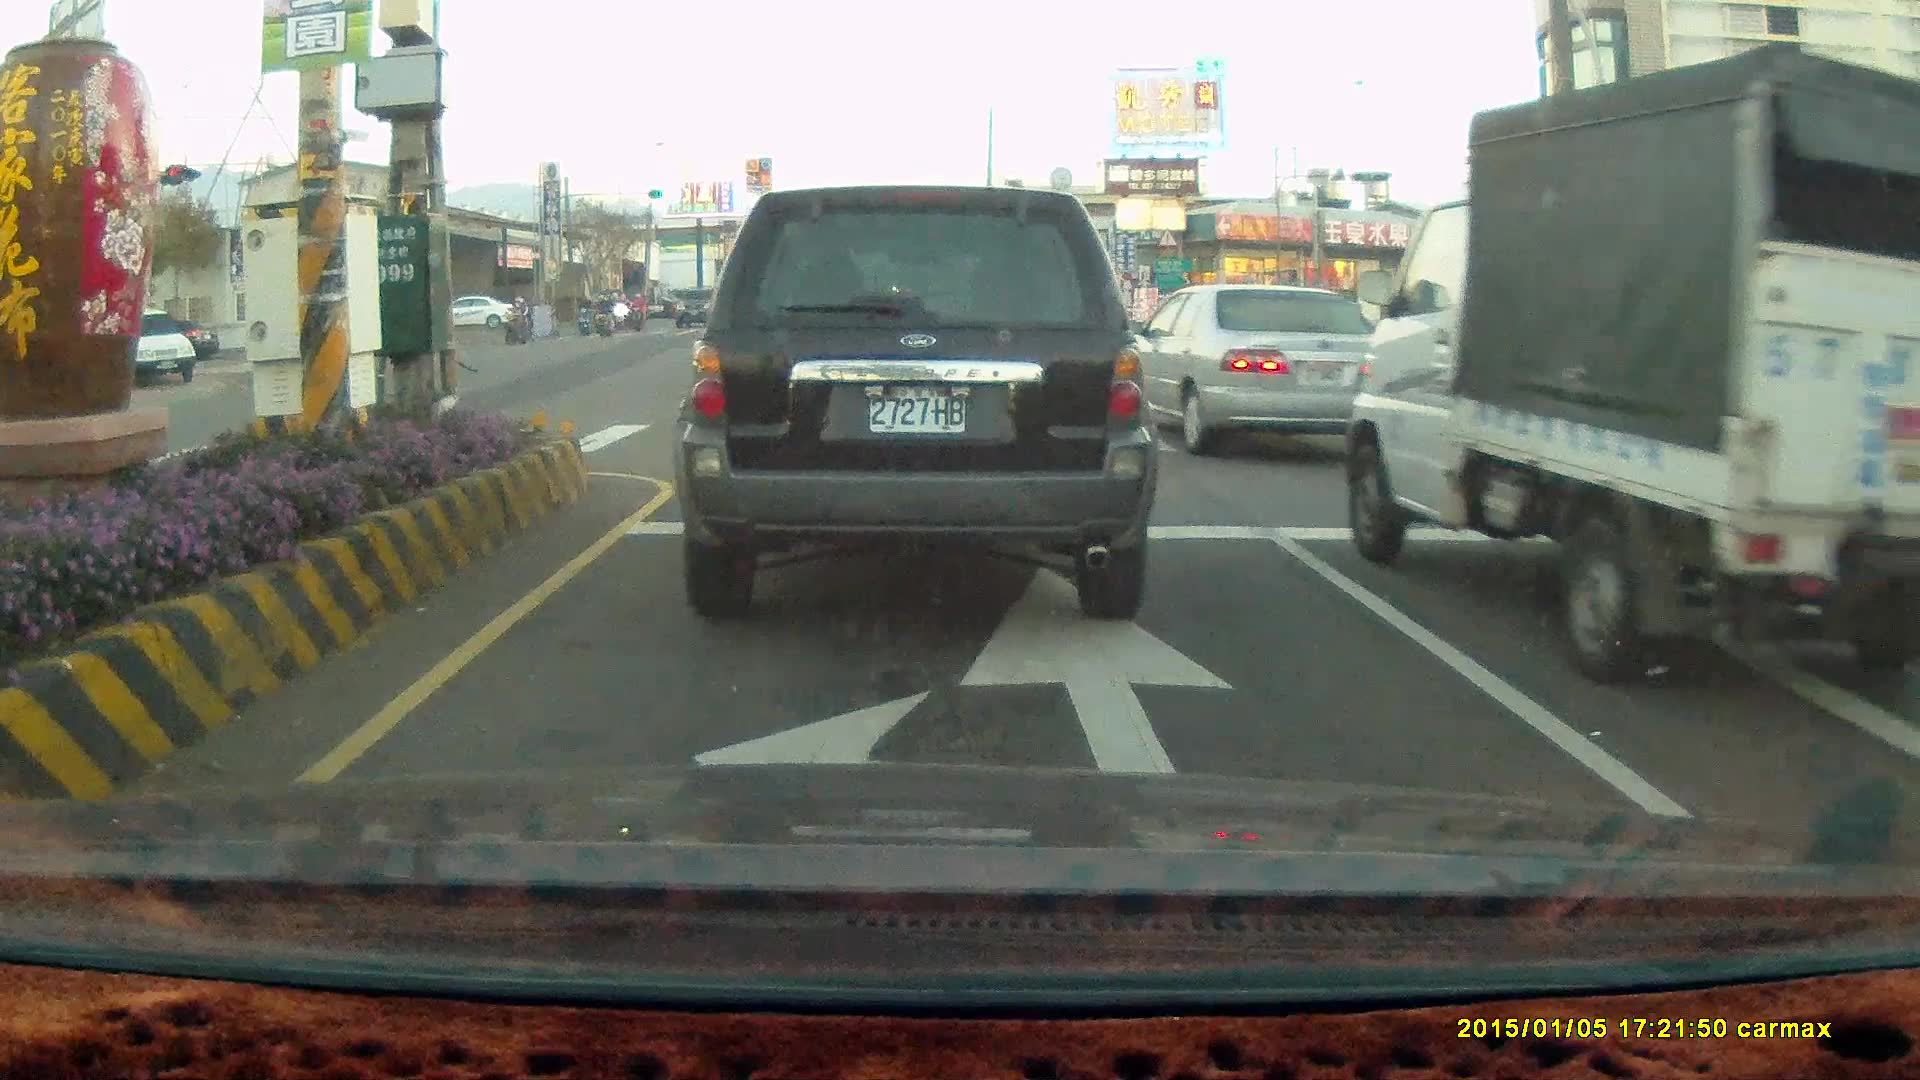rider: (500, 296, 533, 343), (593, 291, 620, 342), (575, 292, 596, 340), (625, 291, 647, 331)
vehicle: (1343, 43, 1920, 688), (669, 182, 1158, 614), (1117, 280, 1409, 457), (1115, 286, 1396, 460), (1691, 285, 1848, 372), (104, 309, 199, 390), (448, 298, 512, 333)
